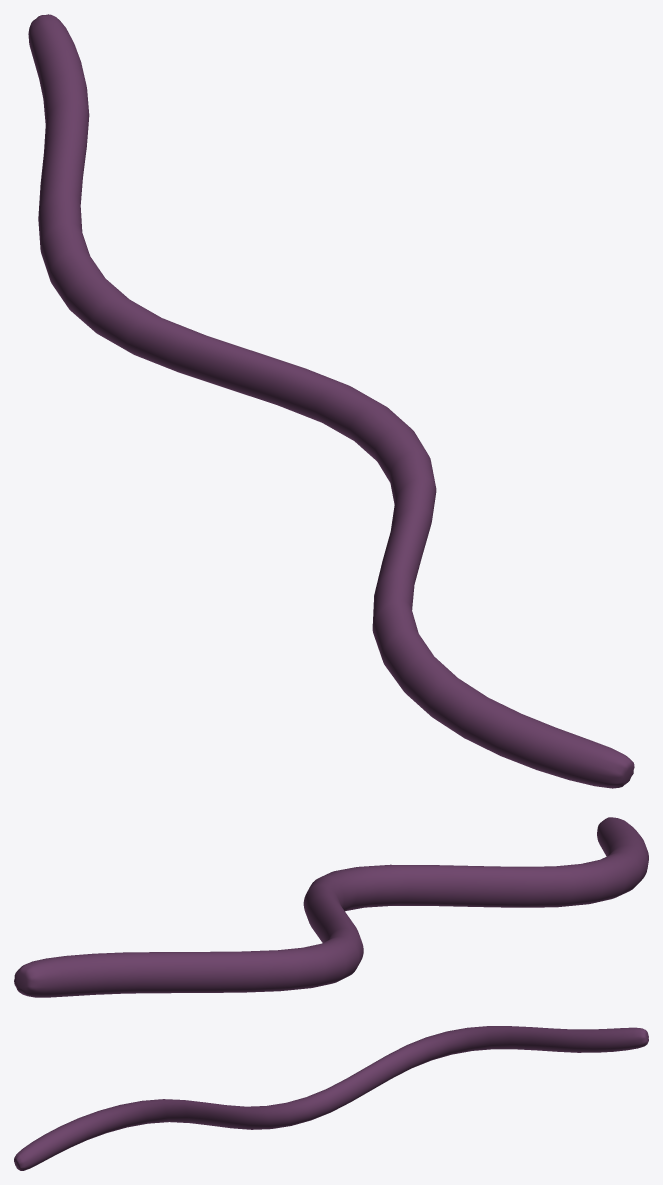
Rendered from frame_22.obj.
3 views of the same model, one above another, from view 1: azimuth 30°, elevation 25°; view 2: azimuth 150°, elevation 25°; view 3: azimuth 270°, elevation 25° (orthographic). The views are drawn at different scales.
Visible parts, largest first — view 1: worm2; view 2: worm2; view 3: worm2.
Part boxes in pixels (x1,y1,x2,y2): worm2: [28, 14, 634, 788]; worm2: [14, 817, 648, 997]; worm2: [14, 1026, 648, 1170].
Bounding box in the file's own units: 293 × 454 × 1707.
